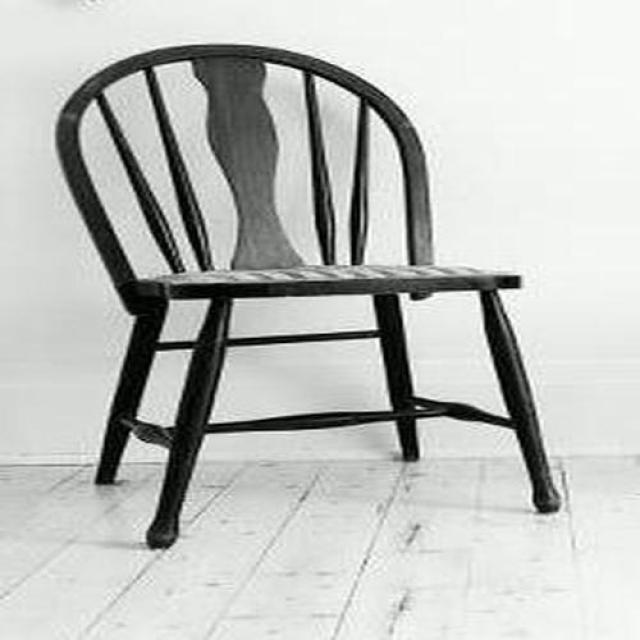chair: (55, 45, 562, 552)
